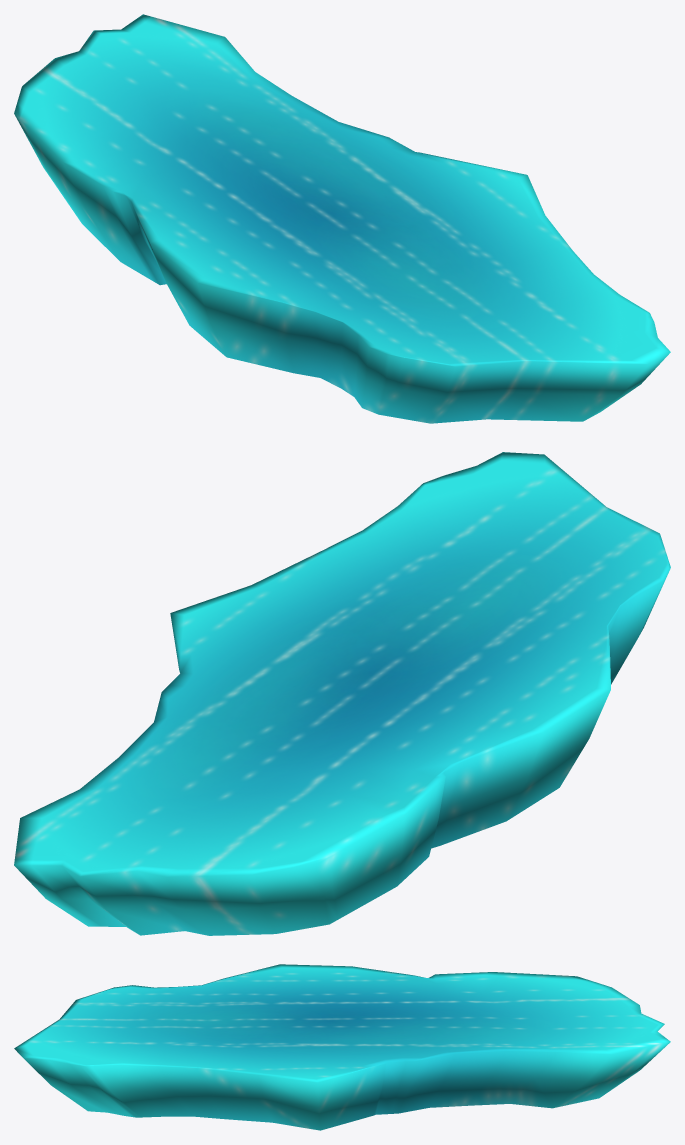
File: Gletscheis_1.fbx
3 renders of one model, top to bottom at view 1: azimuth 30°, elevation 25°; view 2: azimuth 150°, elevation 25°; view 3: azimuth 270°, elevation 25°, orthographic. The views are drawn at different scales.
Visible parts, largest first — view 1: Plane.002; view 2: Plane.002; view 3: Plane.002.
Part boxes in pixels (left/top/right/bottom): Plane.002: left=14, top=14, right=670, bottom=423; Plane.002: left=14, top=452, right=670, bottom=935; Plane.002: left=14, top=964, right=670, bottom=1130.
Bounding box in the file's own units: 6610 × 1576 × 15499.
